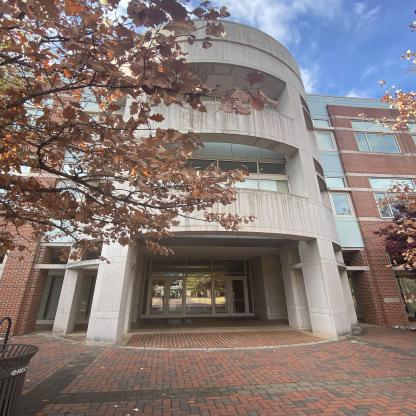EB-1: (11, 36, 412, 347)
